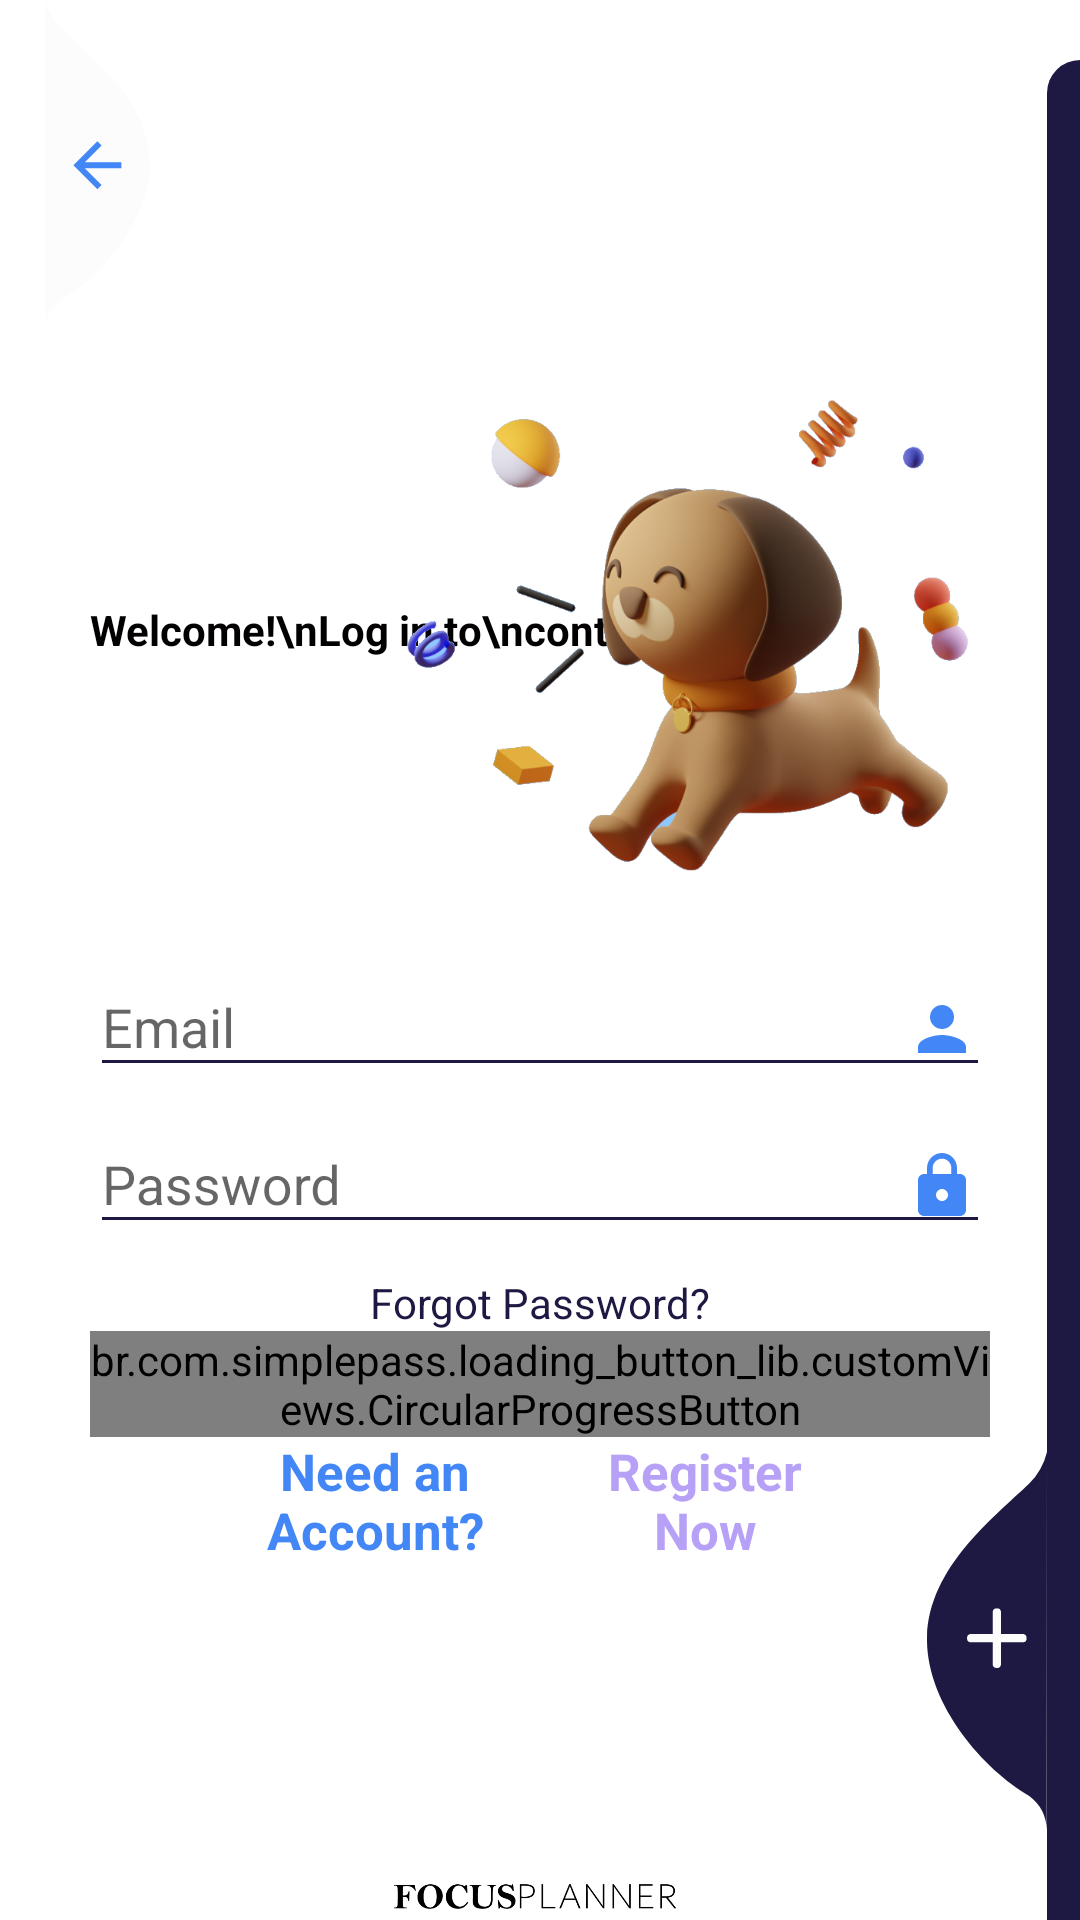

Named icons in this screenshot (1080×1920) and their centers, point (x, y):
regis back: point (97, 165)
